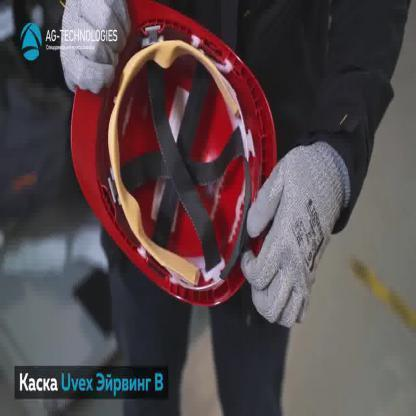gloves: (240, 137, 350, 330), (59, 0, 133, 97)
helmet: (70, 0, 278, 308)
